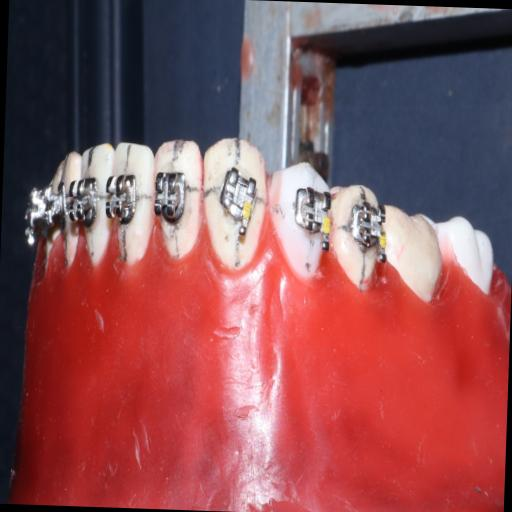incorrect_brace: (214, 163, 260, 243)
